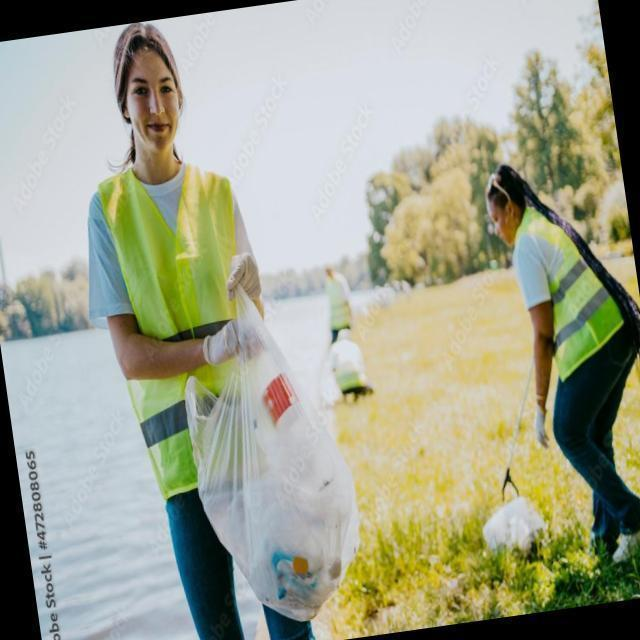Plastic_Bag: (169, 280, 369, 640)
